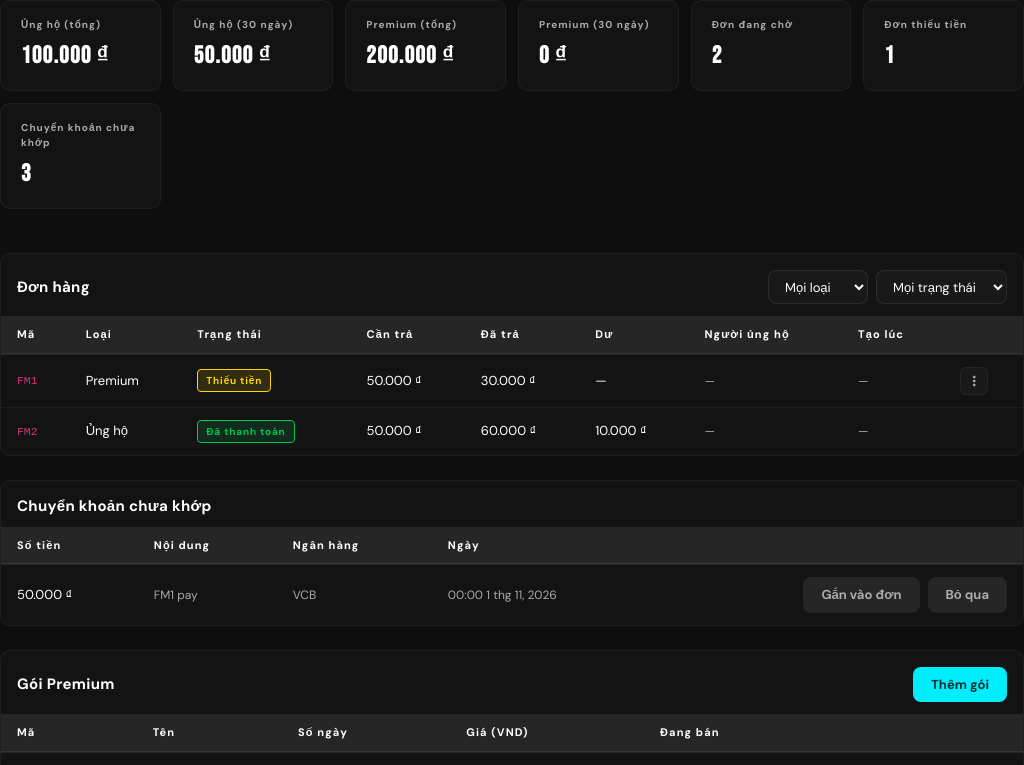
Test case: AdminPaymentsTab › ignores an unmatched transfer after confirmation and invalidates
Click the button "Bỏ qua": (967, 595) [928, 577, 1007, 612]
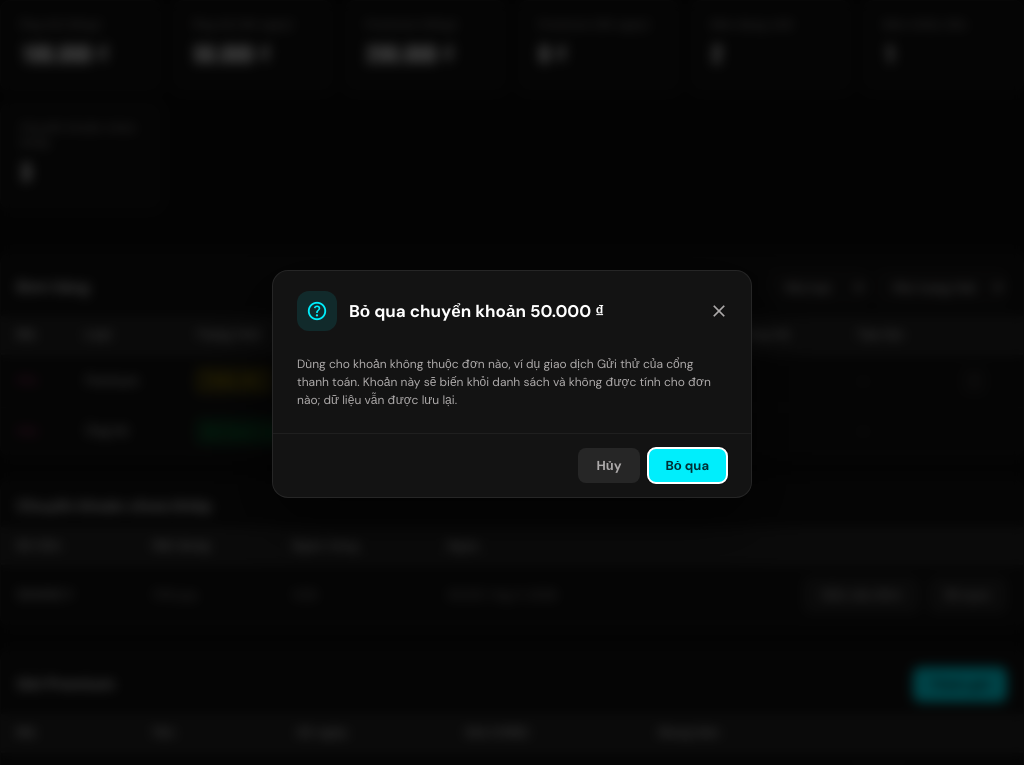
expect the text "Bỏ qua chuyển khoản 50.000 ₫" is shown: met, box [349, 300, 604, 322]
Click the button "Bỏ qua": (687, 466) [648, 448, 727, 483]
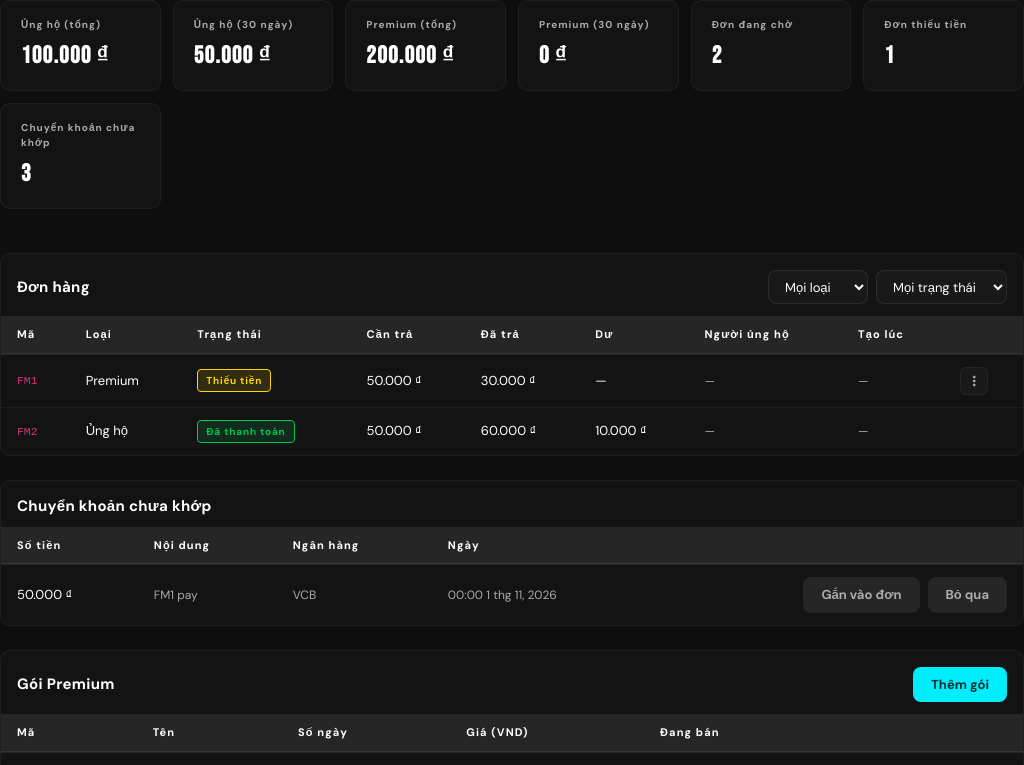
expect the dialog is gone: met
